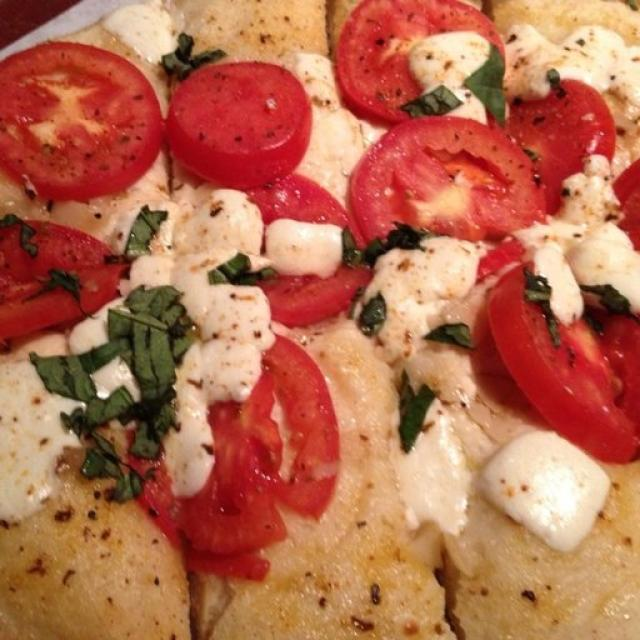Basil: (43, 206, 184, 502), (389, 370, 435, 456), (342, 222, 428, 267), (470, 46, 510, 118), (407, 88, 459, 122), (424, 320, 477, 353), (359, 299, 386, 339)
Cheese: (368, 238, 476, 528), (171, 192, 255, 493), (0, 322, 115, 528), (421, 32, 640, 135), (510, 158, 640, 314), (482, 438, 613, 554), (261, 221, 342, 281), (101, 0, 179, 58)
Tomato: (155, 344, 339, 584), (501, 280, 640, 459), (0, 43, 164, 193), (347, 125, 543, 228), (343, 0, 507, 120), (174, 60, 303, 185), (257, 182, 368, 322), (0, 219, 122, 337), (506, 76, 616, 206), (613, 159, 640, 244)
